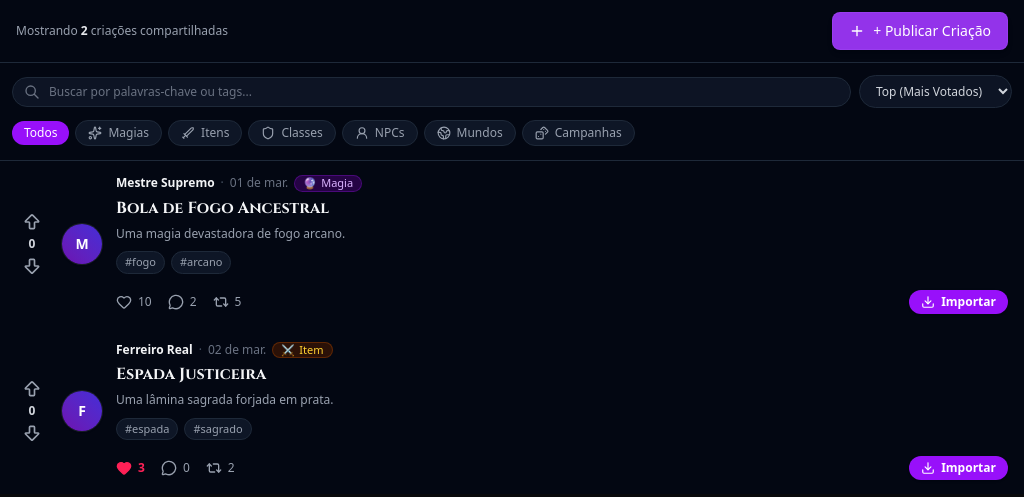
CommunityFeed Component › permite filtrar posts por categoria ao clicar em Magias ou Itens
Expected: the heading "Bola de Fogo Ancestral" is shown, [116, 197, 329, 219]
Expected: the heading "Espada Justiceira" is shown, [116, 363, 266, 385]
Clica no filtro de Magias
Step 1. Click the button "Magias" → (119, 133), box [76, 120, 162, 146]
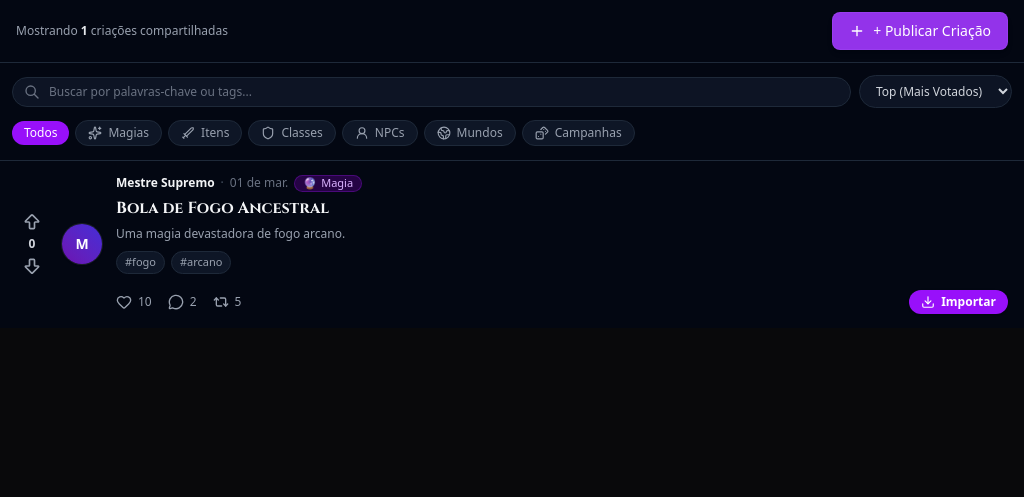
Expected: the heading "Bola de Fogo Ancestral" is shown, [116, 197, 329, 219]
Expected: the heading "Espada Justiceira" is gone
Clica no filtro de Itens
Step 2. Click the button "Itens" → (205, 133), box [168, 120, 242, 146]
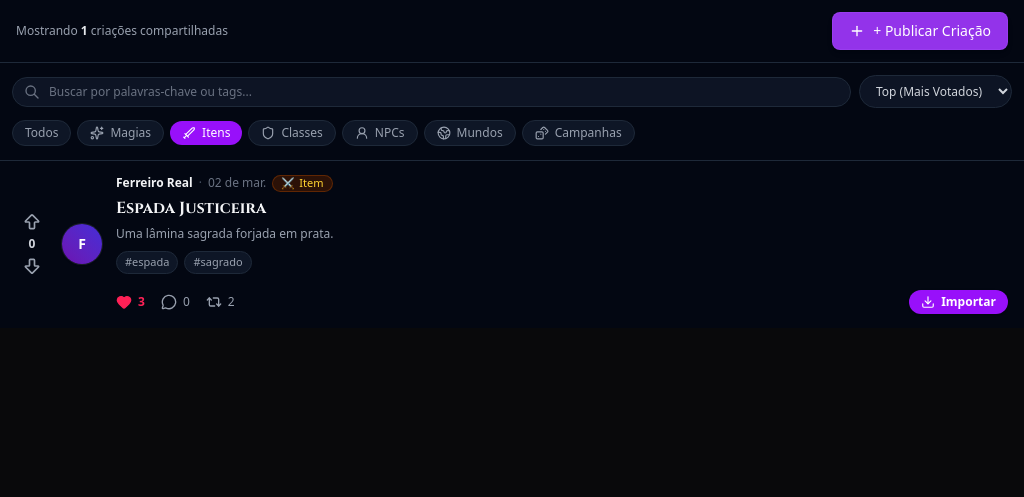
Expected: the heading "Espada Justiceira" is shown, [116, 197, 266, 219]
Expected: the heading "Bola de Fogo Ancestral" is gone
